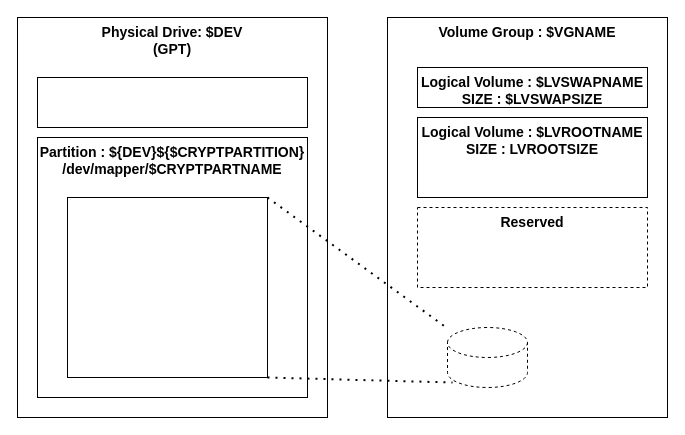
The diagram is 685 pixels wide and 435 high, and some of its shapes have lost their labels. Each missing label, with the box of its shape:
Partition : ${DEV}${EFIPARTITION} SIZE : $EFISIZE: (36, 76, 308, 128)
Physical Volume: (66, 196, 268, 378)
PV: (446, 326, 528, 388)
